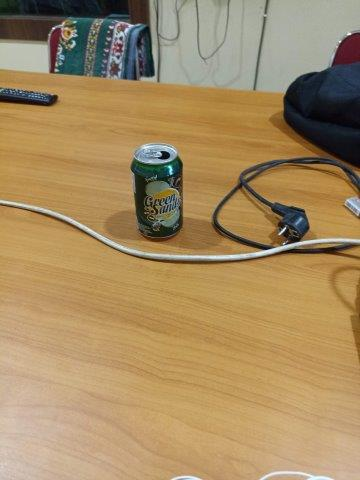kaleng: (130, 142, 183, 239)
